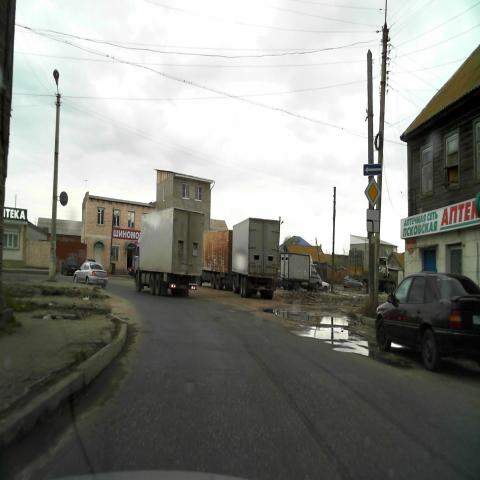2_1: (364, 179, 380, 207)
5_7_2: (363, 164, 382, 175)
8_13: (366, 207, 379, 233)
